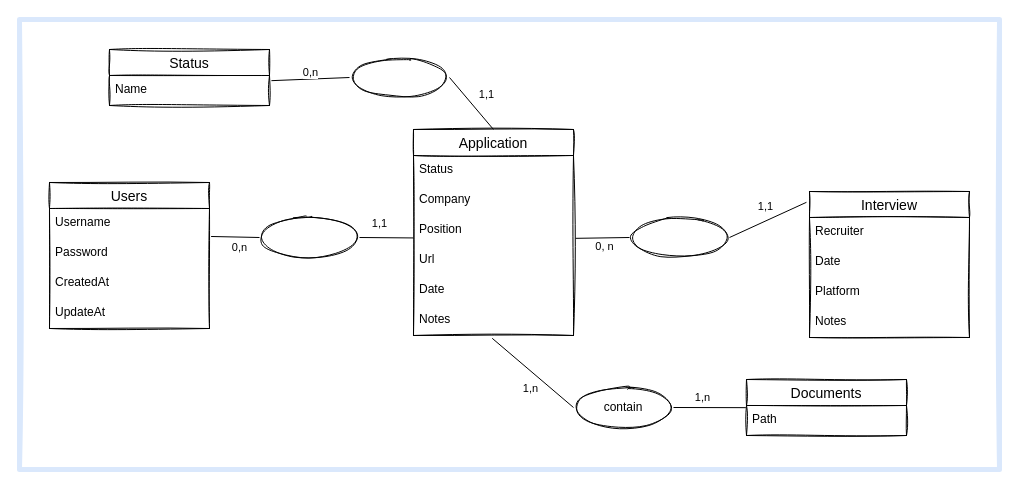
This 1019x489 diagram has some shape labels left out. The centre of each missing label's shape, as x and y in pixels:
characterized: the point at 399,77
create: the point at 309,237
link: the point at 679,237
